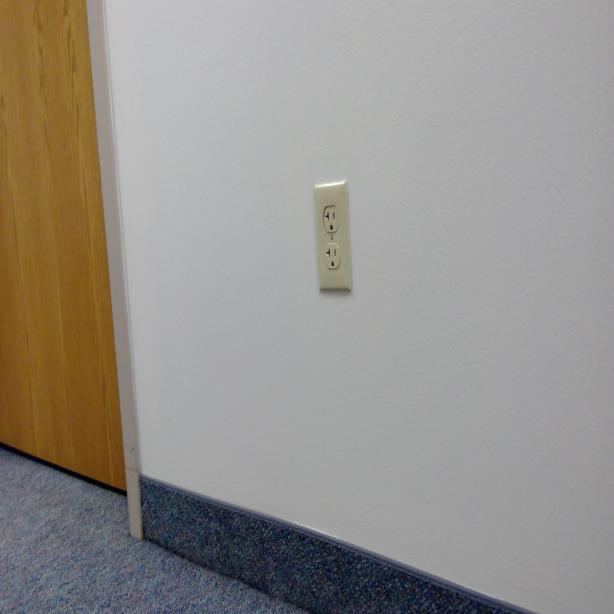typeb: (325, 242, 340, 270), (324, 208, 338, 232)
